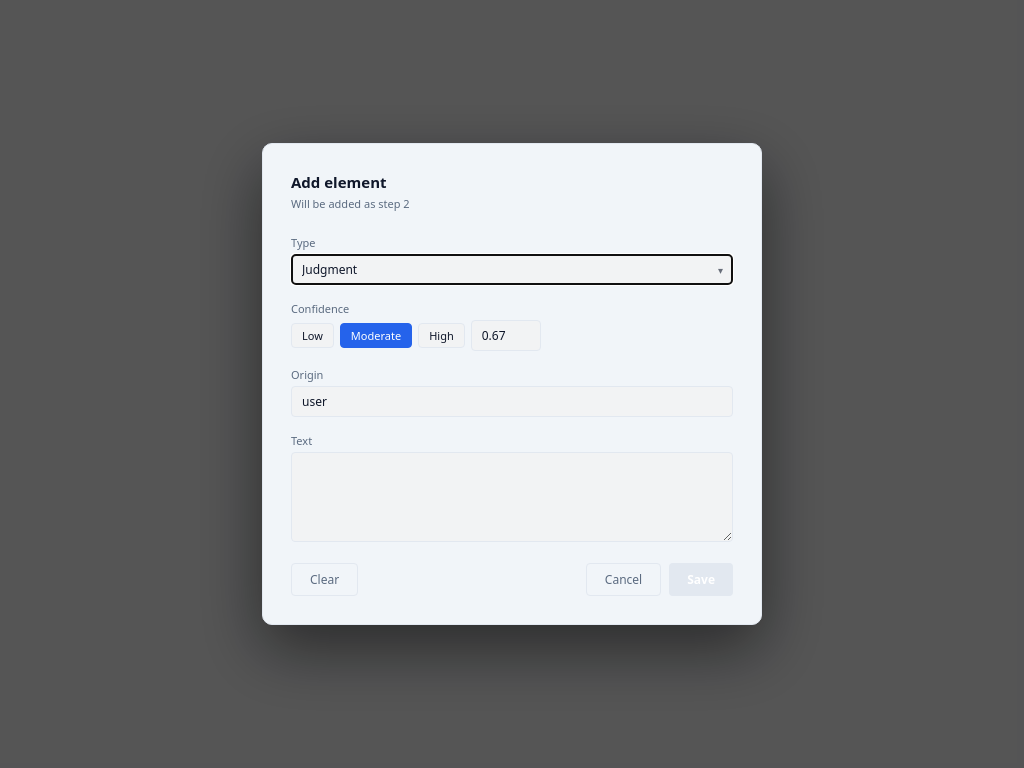
Scenario: the graph's add modal › leaves the origin standing when the form is cleared
Replace the text in the field with "P07": (512, 402) [291,386,733,417]
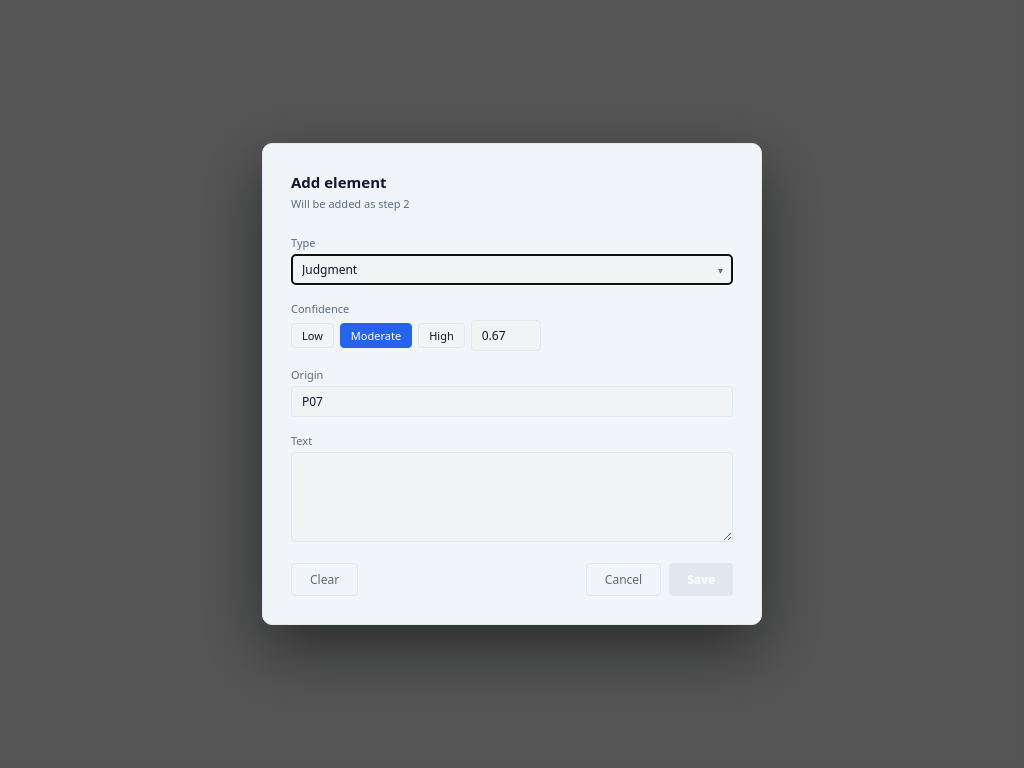
In the text box: (512, 497) [291,452,733,542], type "Torturing is wrong."
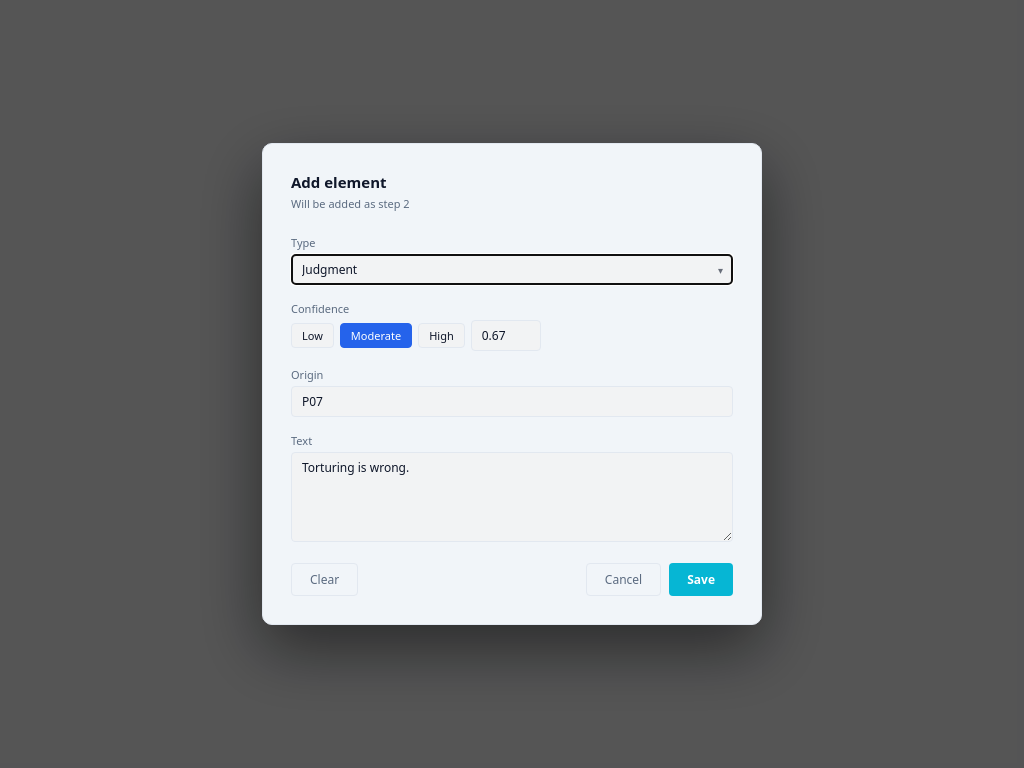
Click the button "Clear": (325, 580) [291,563,358,596]
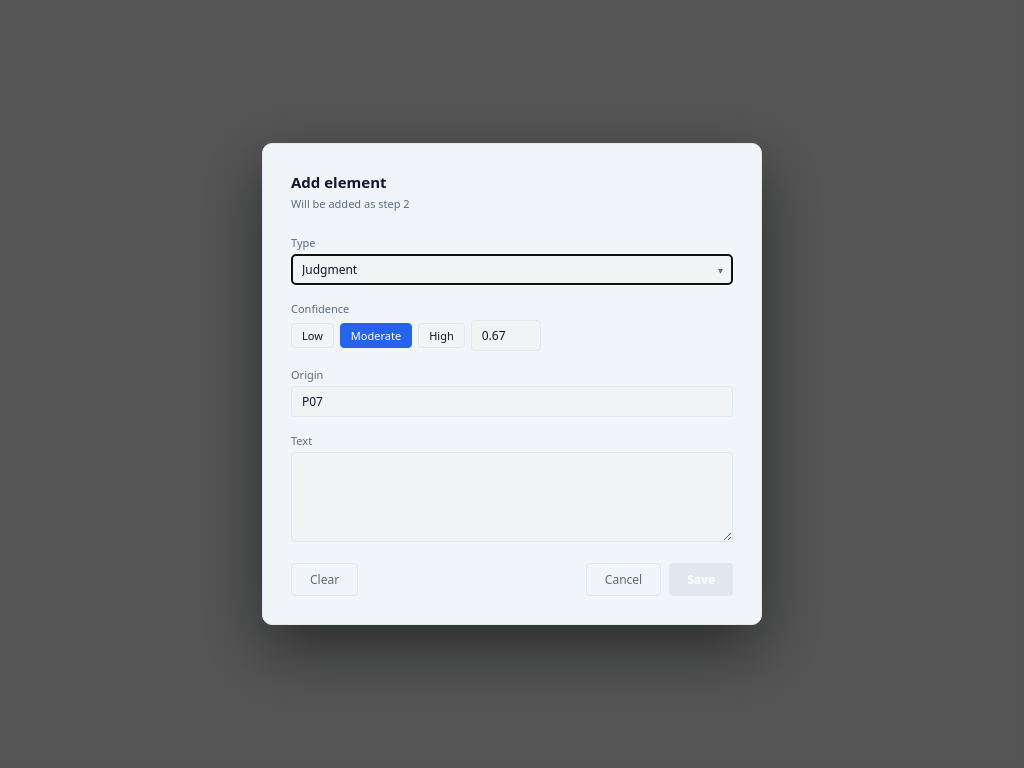
Check: the text box is empty, box [291,452,733,542]
